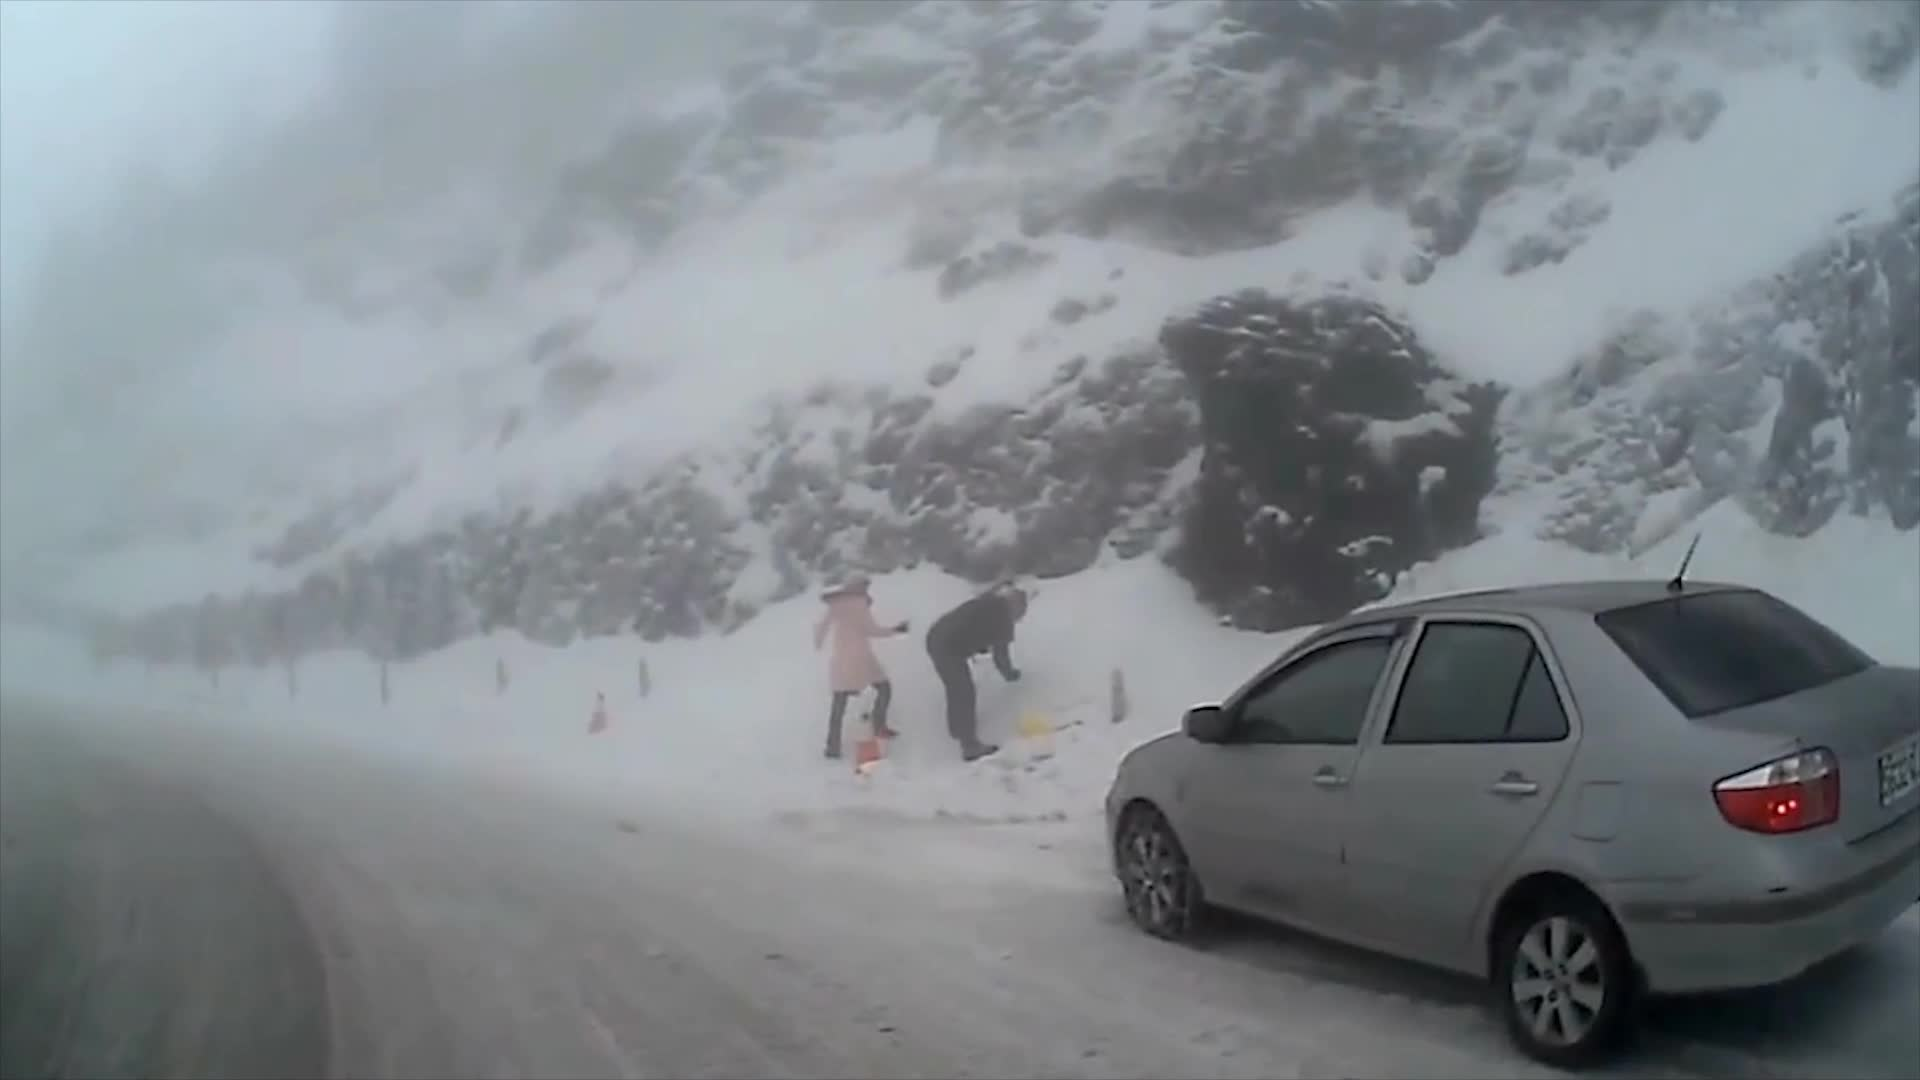pedestrian: (809, 567, 911, 760), (928, 586, 1032, 763)
vehicle: (1105, 577, 1920, 1070)
